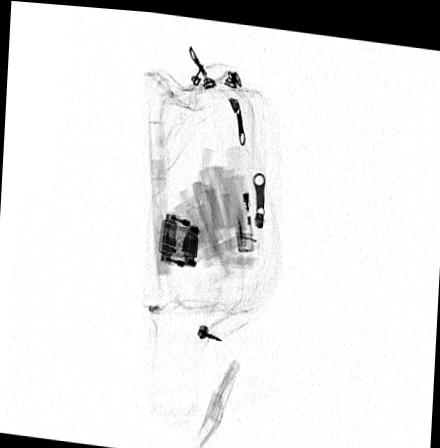Lighter: (225, 143, 254, 250)
